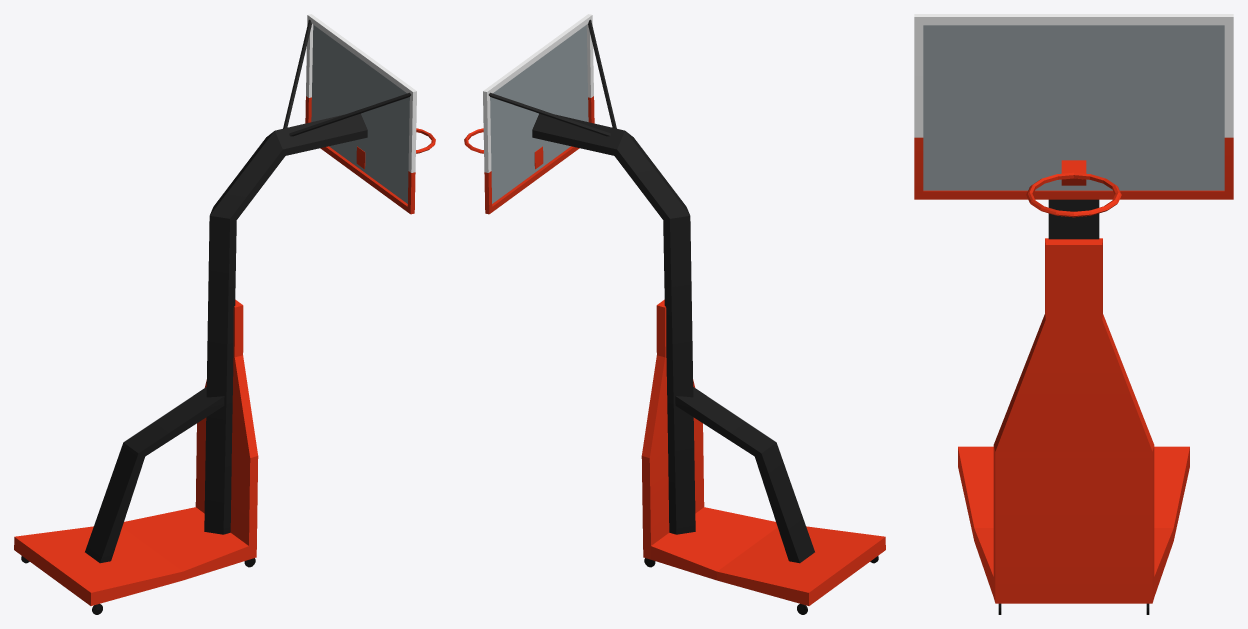
The model's file is Basket.fbx.
3 renders of one model, left to right at view 1: azimuth 30°, elevation 25°; view 2: azimuth 150°, elevation 25°; view 3: azimuth 270°, elevation 25°, orthographic. The views are drawn at different scales.
Visible parts, largest first — view 1: BasketRing_LOD0; view 2: BasketRing_LOD0; view 3: BasketRing_LOD0.
Boxes of the visible parts, x1,y1,x2,y2 form: BasketRing_LOD0: (14,14,435,614); BasketRing_LOD0: (464,14,885,614); BasketRing_LOD0: (914,14,1233,614).
Size of what is drawn, in the model's own units: 349 by 407 by 168.
